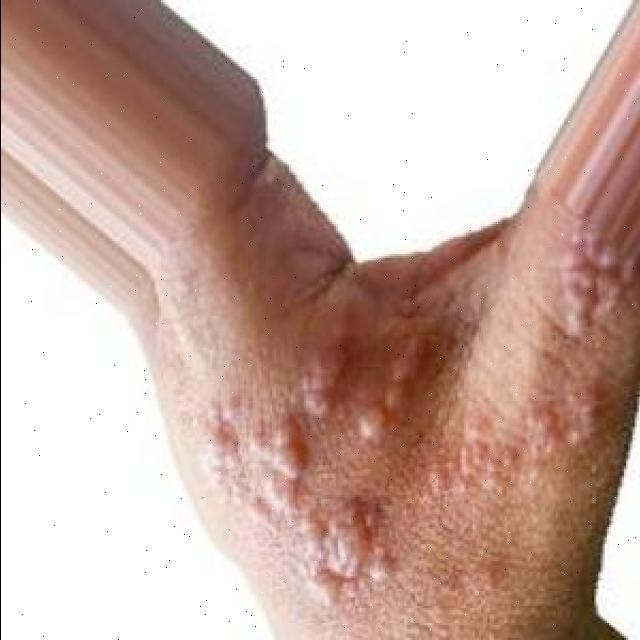Shingles: (188, 410, 392, 605), (414, 373, 616, 503), (551, 224, 640, 342), (357, 329, 437, 450), (300, 291, 361, 420)
